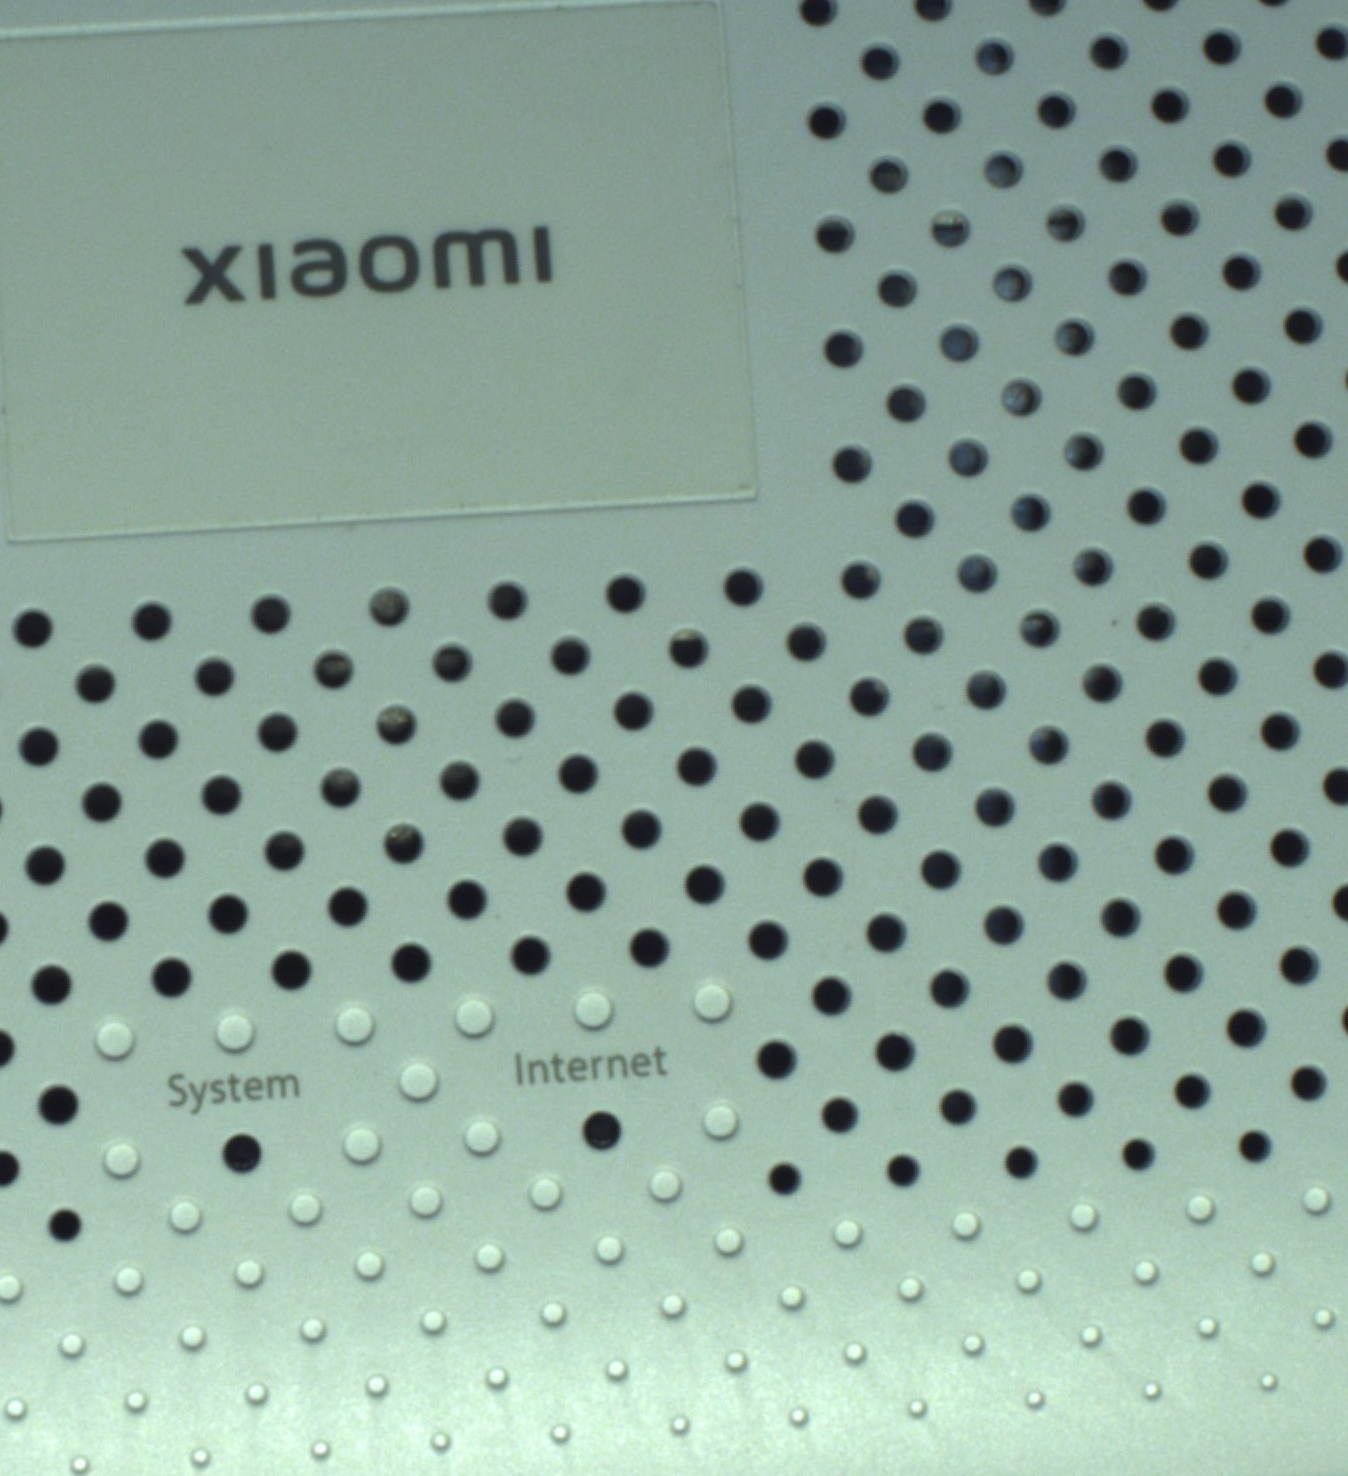MAB_OldUnicom: (159, 213, 554, 310)
